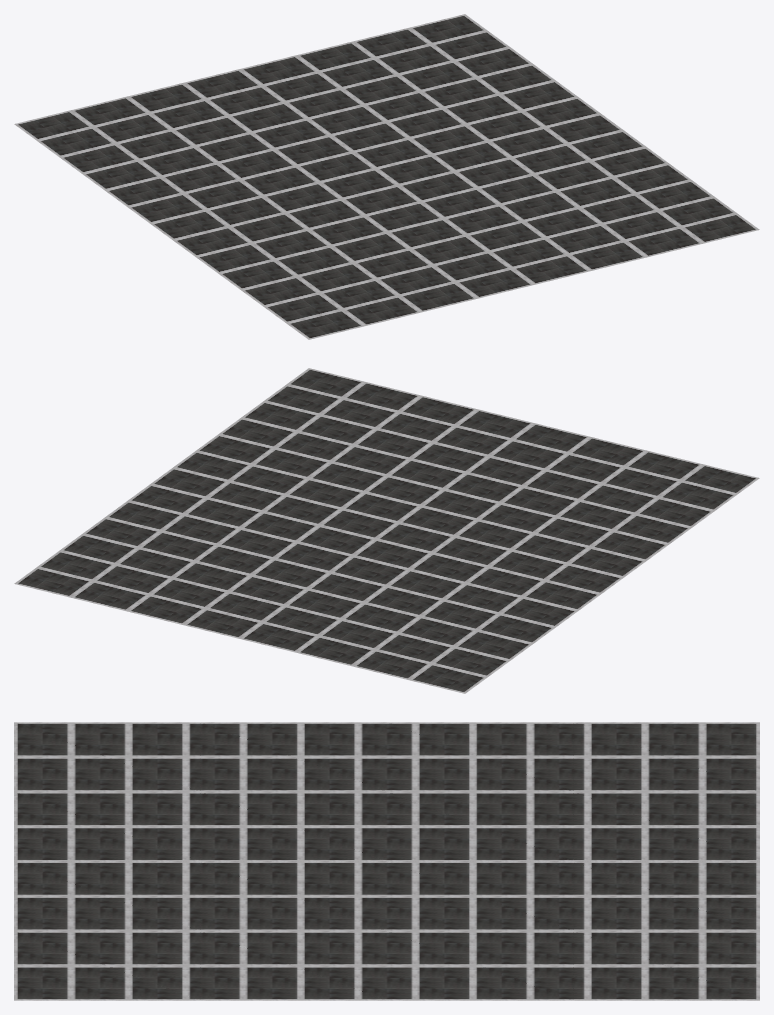
The model's file is piso_ver1.obj.
3 views of the same model, one above another, from view 1: azimuth 30°, elevation 25°; view 2: azimuth 150°, elevation 25°; view 3: azimuth 270°, elevation 25° (orthographic). The views are drawn at different scales.
Visible parts, largest first — view 1: Plane001; view 2: Plane001; view 3: Plane001.
Part boxes in pixels (x1=…): Plane001: x1=14, y1=14, x2=759, y2=339; Plane001: x1=14, y1=368, x2=759, y2=693; Plane001: x1=14, y1=722, x2=759, y2=1000.
Bounding box in the file's own units: 1952 × 0 × 2210.
1 material, 1 textured.
